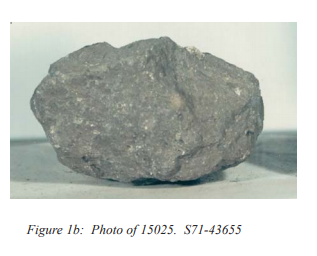Breccia: (16, 28, 290, 189)
